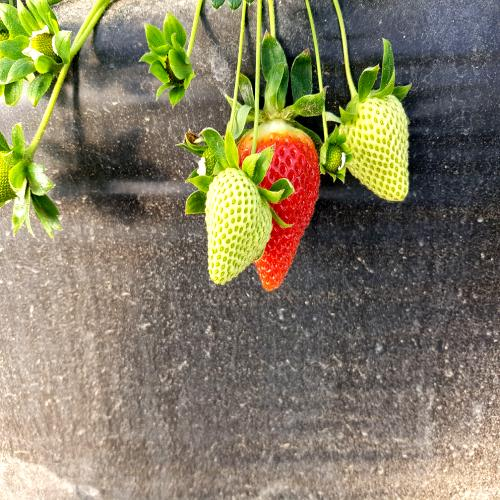ripe: (236, 115, 322, 293)
unripe: (338, 82, 409, 209)
